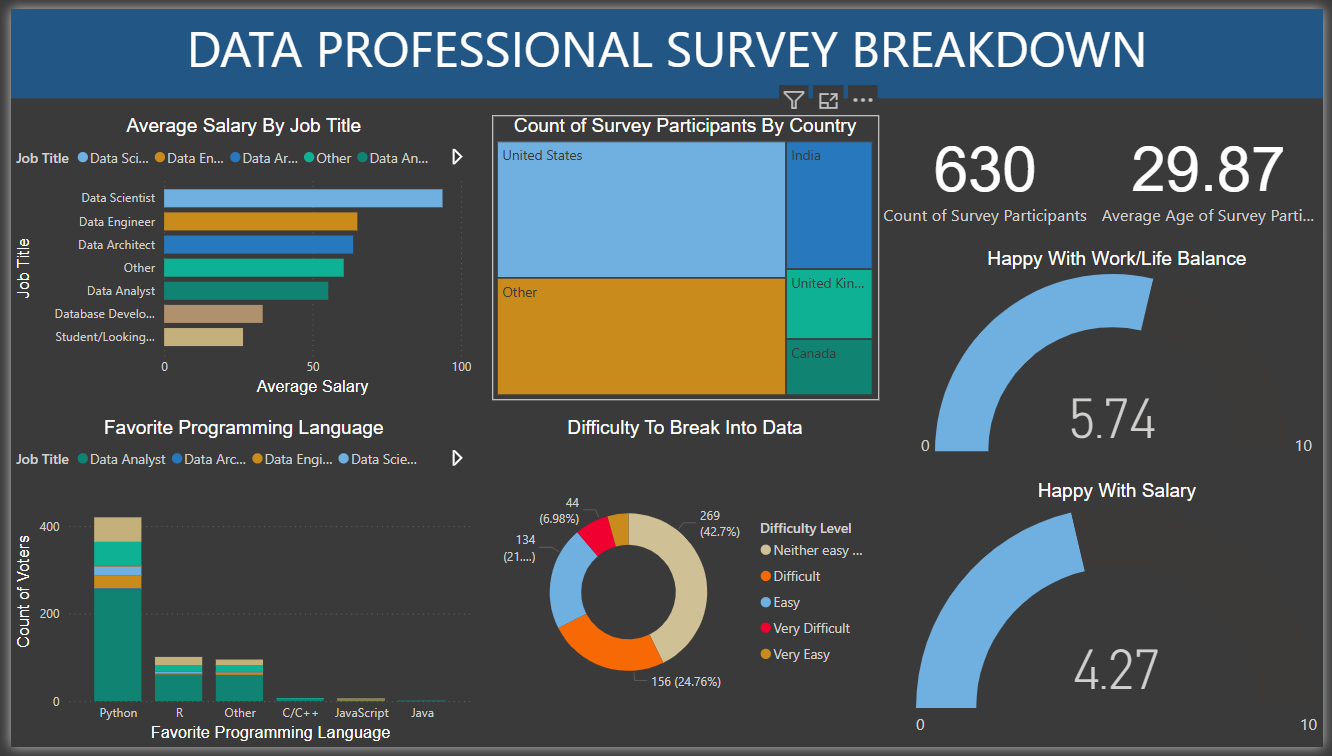

The page's visual inventory and layout, read from the dashboard file:
{"tool":"powerbi","page":{"name":"Data Professional Survey","canvas":[1280,720],"ordinal":0},"visuals":[{"type":"textbox","box":[0,0,1280.3,87.5],"z":0},{"type":"card","fields":{"Values":["Avg(Data Professional Survey.Q10 - Current Age)"]},"box":[1056,105,224.3,115],"z":1},{"type":"card","fields":{"Values":["CountNonNull(Data Professional Survey.Unique ID)"]},"box":[845.1,104.9,211,114.6],"z":2},{"type":"barChart","title":"Average Salary By Job Title","fields":{"Category":["Data Professional Survey.Q1 - Which Title Best Fits your Current Role?.1"],"Y":["Avg(Data Professional Survey.Average Salary)"],"Series":["Data Professional Survey.Q1 - Which Title Best Fits your Current Role?.1"]},"box":[0,103.6,454.2,278.2],"z":3},{"type":"columnChart","title":" Favorite Programming Language","fields":{"Category":["Data Professional Survey.Q5 - Favorite Programming Language.1"],"Y":["CountNonNull(Data Professional Survey.Unique ID)"],"Series":["Data Professional Survey.Q1 - Which Title Best Fits your Current Role?.1"]},"box":[0,397.4,454.2,322.2],"z":4},{"type":"treemap","title":"Count of Survey Participants By Country","fields":{"Group":["Data Professional Survey.Q11 - Which Country do you live in?.1"],"Values":["CountNonNull(Data Professional Survey.Q11 - Which Country do you live in?.1)"]},"box":[469.8,103.6,376.1,278.2],"z":5},{"type":"gauge","title":"Happy With Salary","fields":{"Y":["Avg(Data Professional Survey.Q6 - How Happy are you in your Current Position with the following? (Salary))"],"MinValue":["Min(Data Professional Survey.Q6 - How Happy are you in your Current Position with the following? (Salary))"],"MaxValue":["Max(Data Professional Survey.Q6 - How Happy are you in your Current Position with the following? (Salary))1"]},"box":[878.6,459.9,401.7,259.7],"z":6},{"type":"gauge","title":"Happy With Work/Life Balance","fields":{"Y":["Avg(Data Professional Survey.Q6 - How Happy are you in your Current Position with the following? (Work/Life Balance))"],"MinValue":["Min(Data Professional Survey.Q6 - How Happy are you in your Current Position with the following? (Work/Life Balance))1"],"MaxValue":["Max(Data Professional Survey.Q6 - How Happy are you in your Current Position with the following? (Work/Life Balance))2"]},"box":[878.6,232.8,401.7,208.7],"z":7},{"type":"donutChart","title":"Difficulty To Break Into Data","fields":{"Category":["Data Professional Survey.Q7 - How difficult was it for you to break into Data?"],"Y":["CountNonNull(Data Professional Survey.Q7 - How difficult was it for you to break into Data?)"]},"box":[469.8,397.4,376.1,322.2],"z":8}]}

Visuals, with their boxes in screenshot pixels (x1, y1, x2, y2), scaled from the page's 1280x720 canvas onto the 1332x756 screenshot:
textbox: Rect(0, 0, 1331, 92)
card - Avg(Data Professional Survey.Q10 - Current Age): Rect(1099, 110, 1331, 231)
card - CountNonNull(Data Professional Survey.Unique ID): Rect(879, 110, 1099, 230)
"Average Salary By Job Title" barChart: Rect(0, 109, 473, 401)
" Favorite Programming Language" columnChart: Rect(0, 417, 473, 755)
"Count of Survey Participants By Country" treemap: Rect(489, 109, 880, 401)
"Happy With Salary" gauge: Rect(914, 483, 1331, 755)
"Happy With Work/Life Balance" gauge: Rect(914, 244, 1331, 464)
"Difficulty To Break Into Data" donutChart: Rect(489, 417, 880, 755)
